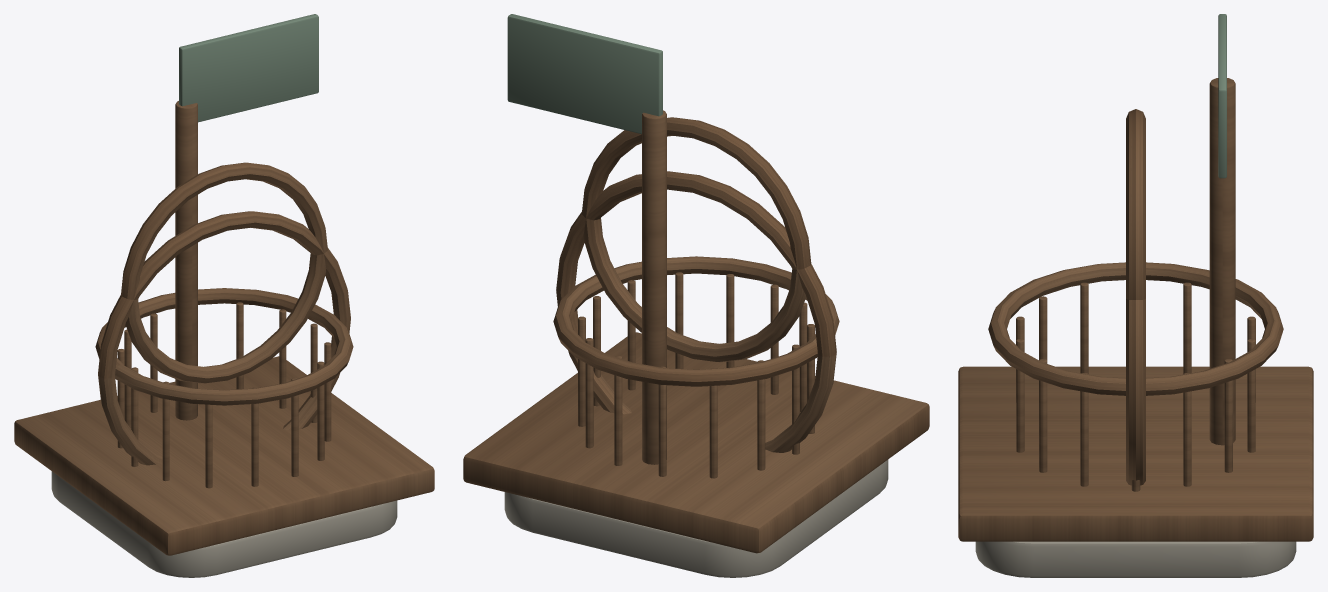
File: practice_basket_high_end.glb
3 views of the same model, side by side, from view 1: azimuth 30°, elevation 25°; view 2: azimuth 150°, elevation 25°; view 3: azimuth 270°, elevation 25° (orthographic). The views are drawn at different scales.
Parts seen in each view (by area): view 1: PracticeBasket_CollectionTray, PracticeBasket_Flag, PracticeBasket_TargetRing_2, PracticeBasket_Base, PracticeBasket_TargetRing_1, PracticeBasket_Collector_TopRing, PracticeBasket_Mast, PracticeBasket_Collector_Wire_10, PracticeBasket_Collector_Wire_11, PracticeBasket_Collector_Wire_9, PracticeBasket_Collector_Wire_12, PracticeBasket_Collector_Wire_13 (+3 smaller); view 2: PracticeBasket_CollectionTray, PracticeBasket_Flag, PracticeBasket_Base, PracticeBasket_TargetRing_2, PracticeBasket_TargetRing_1, PracticeBasket_Collector_TopRing, PracticeBasket_Mast, PracticeBasket_Collector_Wire_6, PracticeBasket_Collector_Wire_5, PracticeBasket_Collector_Wire_7, PracticeBasket_Collector_Wire_4, PracticeBasket_Collector_Wire_3 (+5 smaller); view 3: PracticeBasket_CollectionTray, PracticeBasket_Base, PracticeBasket_Collector_TopRing, PracticeBasket_Mast, PracticeBasket_TargetRing_2, PracticeBasket_TargetRing_1, PracticeBasket_Flag, PracticeBasket_Collector_Wire_14, PracticeBasket_Collector_Wire_2, PracticeBasket_Collector_Wire_13, PracticeBasket_Collector_Wire_3, PracticeBasket_Collector_Wire_12 (+4 smaller).
Part boxes in pixels (x1=…): PracticeBasket_CollectionTray: x1=14, y1=356, x2=434, y2=555; PracticeBasket_Flag: x1=179, y1=14, x2=318, y2=122; PracticeBasket_TargetRing_2: x1=121, y1=162, x2=327, y2=383; PracticeBasket_Base: x1=51, y1=471, x2=397, y2=577; PracticeBasket_TargetRing_1: x1=98, y1=211, x2=350, y2=465; PracticeBasket_Collector_TopRing: x1=95, y1=288, x2=353, y2=405; PracticeBasket_Mast: x1=175, y1=101, x2=197, y2=420; PracticeBasket_Collector_Wire_10: x1=205, y1=389, x2=212, y2=488; PracticeBasket_Collector_Wire_11: x1=251, y1=387, x2=258, y2=486; PracticeBasket_Collector_Wire_9: x1=162, y1=381, x2=169, y2=481; PracticeBasket_Collector_Wire_12: x1=291, y1=377, x2=298, y2=476; PracticeBasket_Collector_Wire_13: x1=317, y1=361, x2=324, y2=460; PracticeBasket_CollectionTray: x1=463, y1=332, x2=929, y2=553; PracticeBasket_Flag: x1=507, y1=14, x2=662, y2=134; PracticeBasket_Base: x1=504, y1=459, x2=888, y2=577; PracticeBasket_TargetRing_2: x1=581, y1=117, x2=811, y2=362; PracticeBasket_TargetRing_1: x1=556, y1=171, x2=836, y2=452; PracticeBasket_Collector_TopRing: x1=553, y1=256, x2=839, y2=386; PracticeBasket_Mast: x1=642, y1=110, x2=666, y2=464; PracticeBasket_Collector_Wire_6: x1=709, y1=368, x2=717, y2=478; PracticeBasket_Collector_Wire_5: x1=658, y1=366, x2=666, y2=476; PracticeBasket_Collector_Wire_7: x1=757, y1=360, x2=765, y2=470; PracticeBasket_Collector_Wire_4: x1=614, y1=355, x2=622, y2=465; PracticeBasket_Collector_Wire_3: x1=585, y1=338, x2=593, y2=448; PracticeBasket_CollectionTray: x1=958, y1=366, x2=1313, y2=541; PracticeBasket_Base: x1=975, y1=541, x2=1296, y2=577; PracticeBasket_Collector_TopRing: x1=988, y1=262, x2=1283, y2=395; PracticeBasket_Mast: x1=1209, y1=78, x2=1235, y2=445; PracticeBasket_TargetRing_2: x1=1126, y1=109, x2=1145, y2=299; PracticeBasket_TargetRing_1: x1=1126, y1=299, x2=1145, y2=485; PracticeBasket_Flag: x1=1218, y1=14, x2=1226, y2=178; PracticeBasket_Collector_Wire_14: x1=1080, y1=373, x2=1088, y2=486; PracticeBasket_Collector_Wire_2: x1=1183, y1=373, x2=1191, y2=486; PracticeBasket_Collector_Wire_13: x1=1039, y1=359, x2=1047, y2=472; PracticeBasket_Collector_Wire_3: x1=1224, y1=359, x2=1232, y2=472; PracticeBasket_Collector_Wire_12: x1=1016, y1=339, x2=1024, y2=452.
Size of what is drawn, in the model's own units: 0.492 by 0.756 by 0.492.
3 materials, 1 textured.
